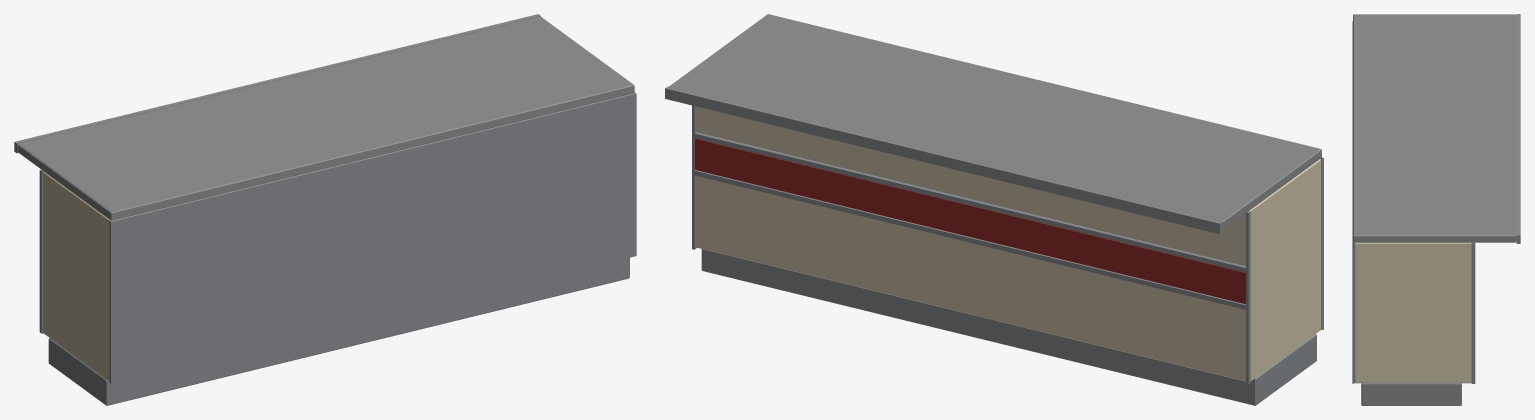
The model's file is prop_diner_counter_w250.glb.
3 renders of one model, left to right at view 1: azimuth 30°, elevation 25°; view 2: azimuth 150°, elevation 25°; view 3: azimuth 270°, elevation 25°, orthographic. The views are drawn at different scales.
Parts seen in each view (by area): view 1: Counter; view 2: Counter; view 3: Counter.
Boxes of the visible parts, box(x1,y1,x2,y2) form: Counter: box(14, 14, 636, 405); Counter: box(665, 14, 1323, 405); Counter: box(1352, 14, 1520, 405).
Size of what is drawn, in the model's own units: 2.51 by 0.9 by 0.804.
